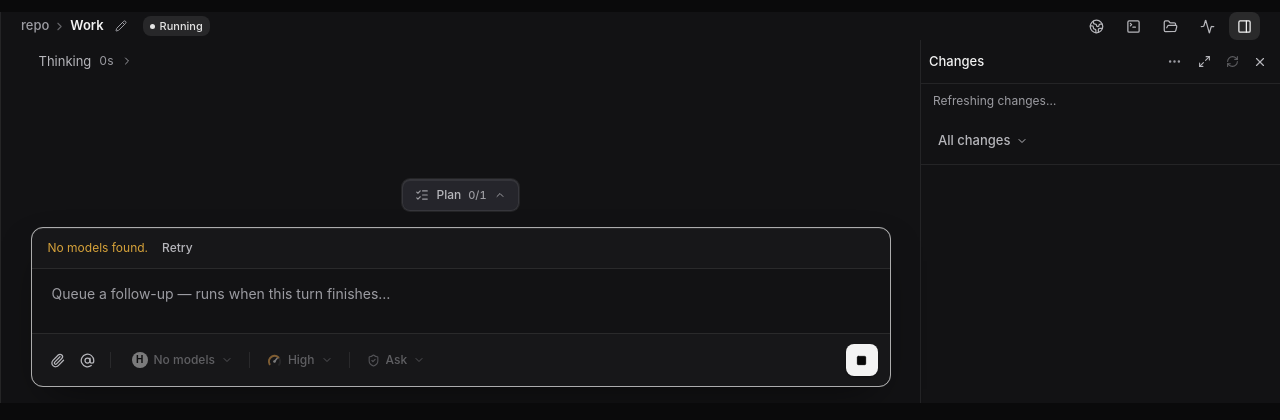
Test: thread layout › shows an active plan with one floating toggle and restores it inline when complete
The width and height of the screenshot is (1280, 420).
Later steps or results of the test are not shown.
(page scrolled)
Expected: the element named "Plan: 0 of 1 completed" is shown, [30,227,890,387]
Click the button with aria-label "Plan: 0 of 1 completed" at (460, 195), box [402,179,518,211]
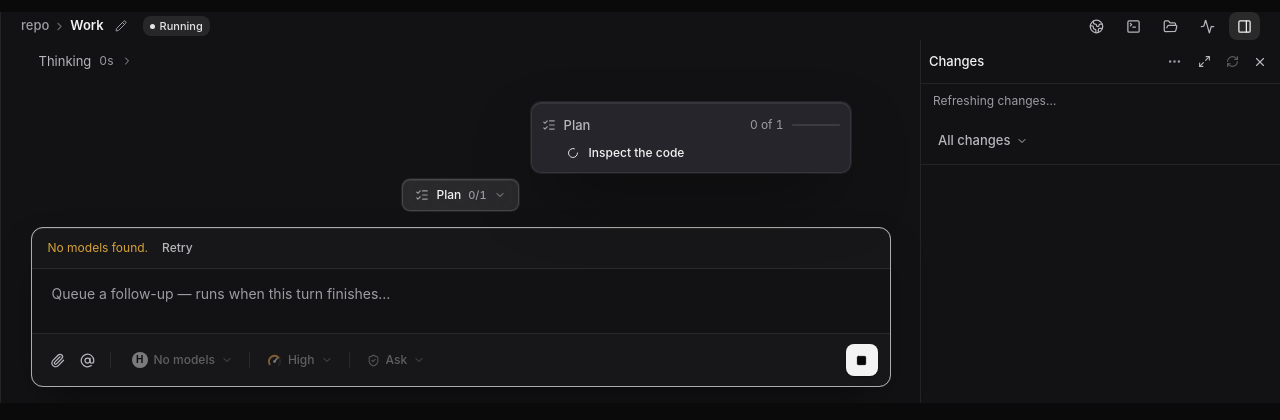
Expected: the element named "Plan: 0 of 1 completed" is shown, [30,227,890,387]
Now the text "Plan" in the row of "of" is shown, box [564,117,590,133]
Now the number of elements "Plan" is 1, box [542,109,840,169]
Click the button with aria-label "Plan: 0 of 1 completed" at (460, 195), box [402,179,518,211]
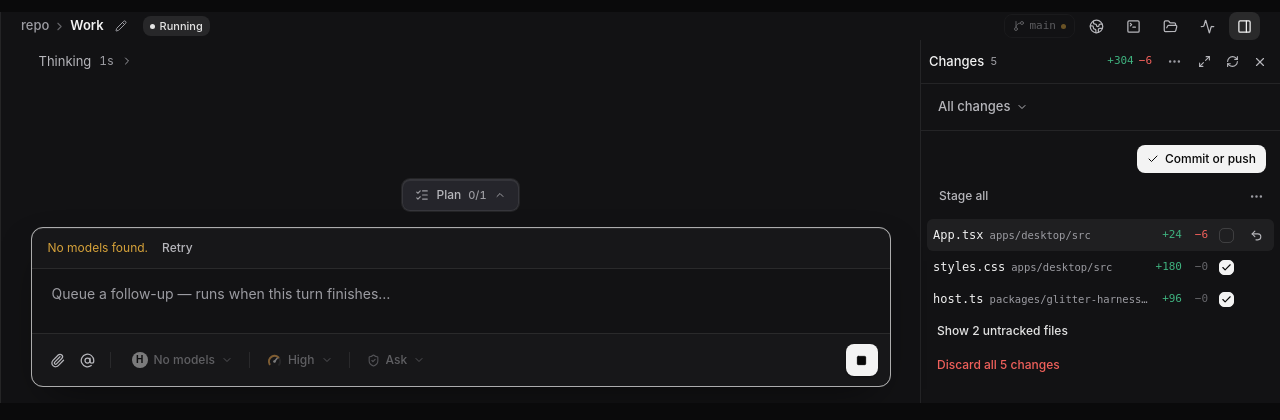
Now the button with aria-label "Plan: 0 of 1 completed" is collapsed, box [402,179,518,211]
